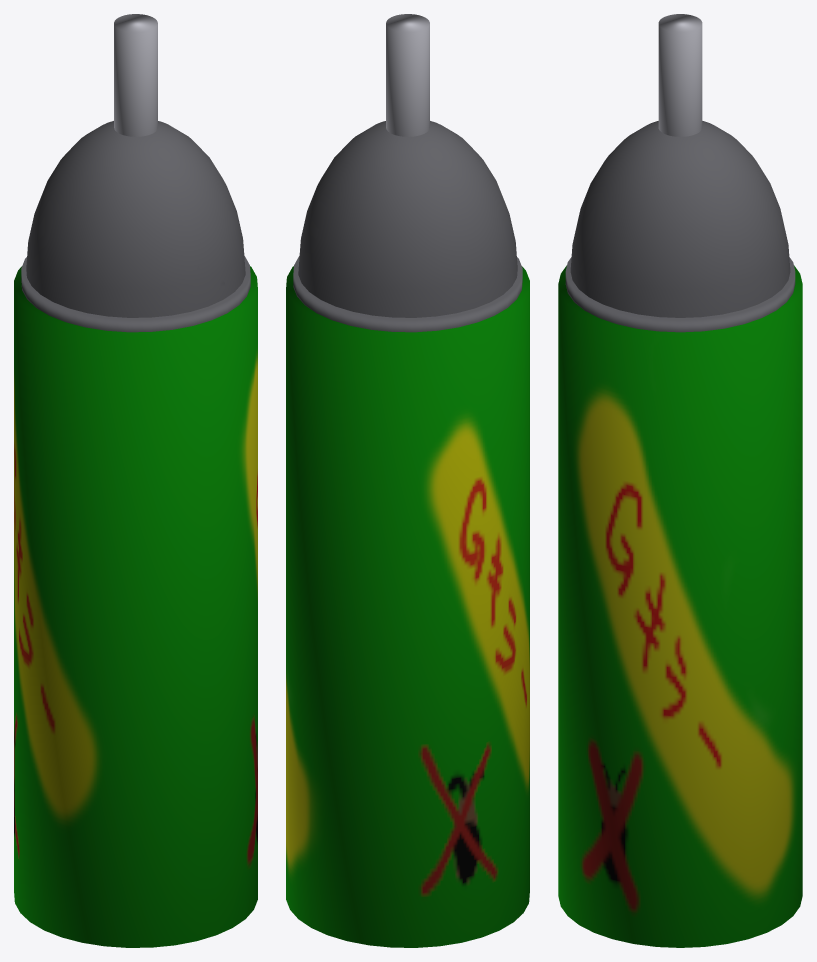
Rendered from spray.gltf.
The picture shows the model from 3 angles, left to right: view 1: azimuth 30°, elevation 25°; view 2: azimuth 150°, elevation 25°; view 3: azimuth 270°, elevation 25°; orthographic projection.
Parts seen in each view (by area): view 1: spray_body, spray_head, spray_button, spray_inside_body; view 2: spray_body, spray_head, spray_button, spray_inside_body; view 3: spray_body, spray_head, spray_button, spray_inside_body.
Boxes of the visible parts, left/top/right/bottom form: spray_body: left=14, top=266, right=257, bottom=947; spray_head: left=26, top=121, right=245, bottom=317; spray_button: left=114, top=14, right=157, bottom=136; spray_inside_body: left=21, top=256, right=250, bottom=332; spray_body: left=286, top=266, right=529, bottom=947; spray_head: left=298, top=121, right=517, bottom=317; spray_button: left=386, top=14, right=429, bottom=136; spray_inside_body: left=293, top=256, right=522, bottom=332; spray_body: left=558, top=265, right=802, bottom=947; spray_head: left=570, top=121, right=790, bottom=317; spray_button: left=658, top=14, right=702, bottom=136; spray_inside_body: left=565, top=257, right=795, bottom=332.
Bounding box in the file's own units: 1.08 × 4.28 × 1.08.
Materials: 4 (4 with a texture image).
